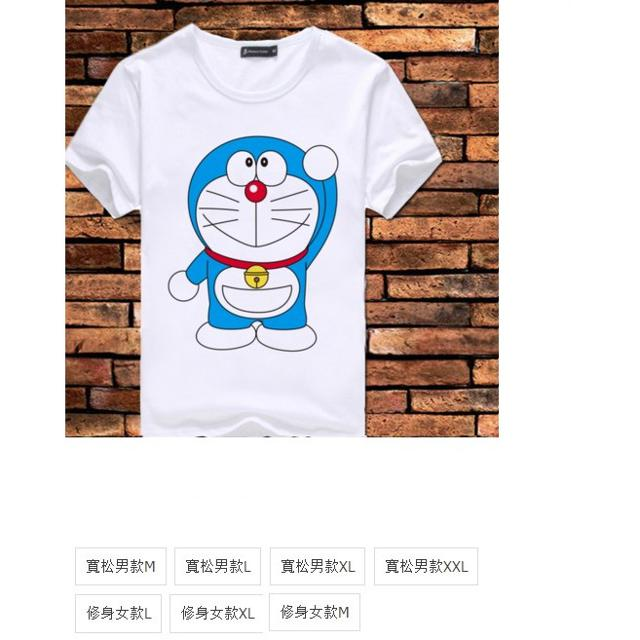Tops: (72, 22, 444, 439)
